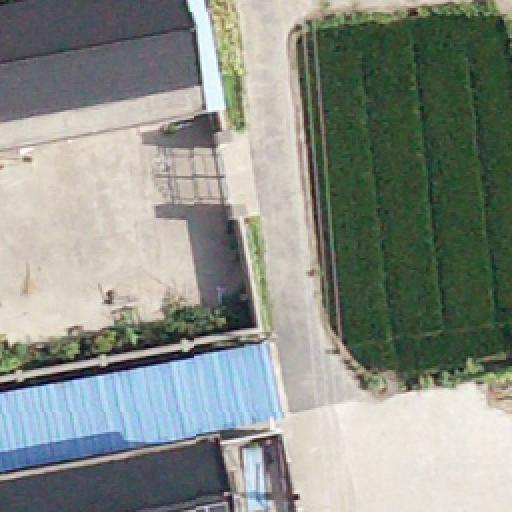solar-panel: (178, 504, 230, 512)
